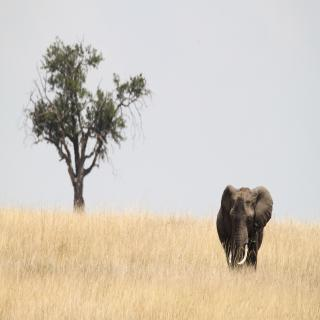Elephant: (216, 181, 276, 272)
